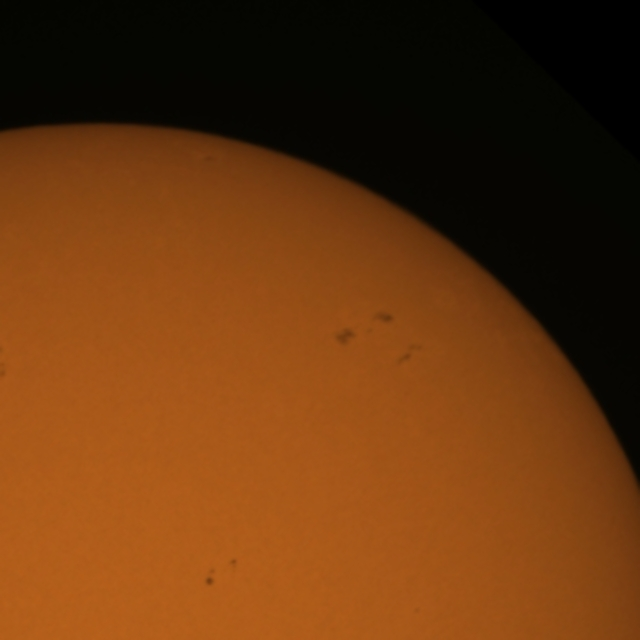sunspot: (334, 308, 397, 344), (204, 558, 239, 588), (394, 342, 425, 368), (332, 325, 358, 348), (204, 566, 218, 588), (0, 357, 8, 384), (227, 557, 238, 569), (412, 605, 422, 617)
